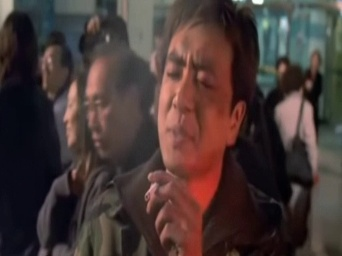smoke: (143, 176, 162, 200)
